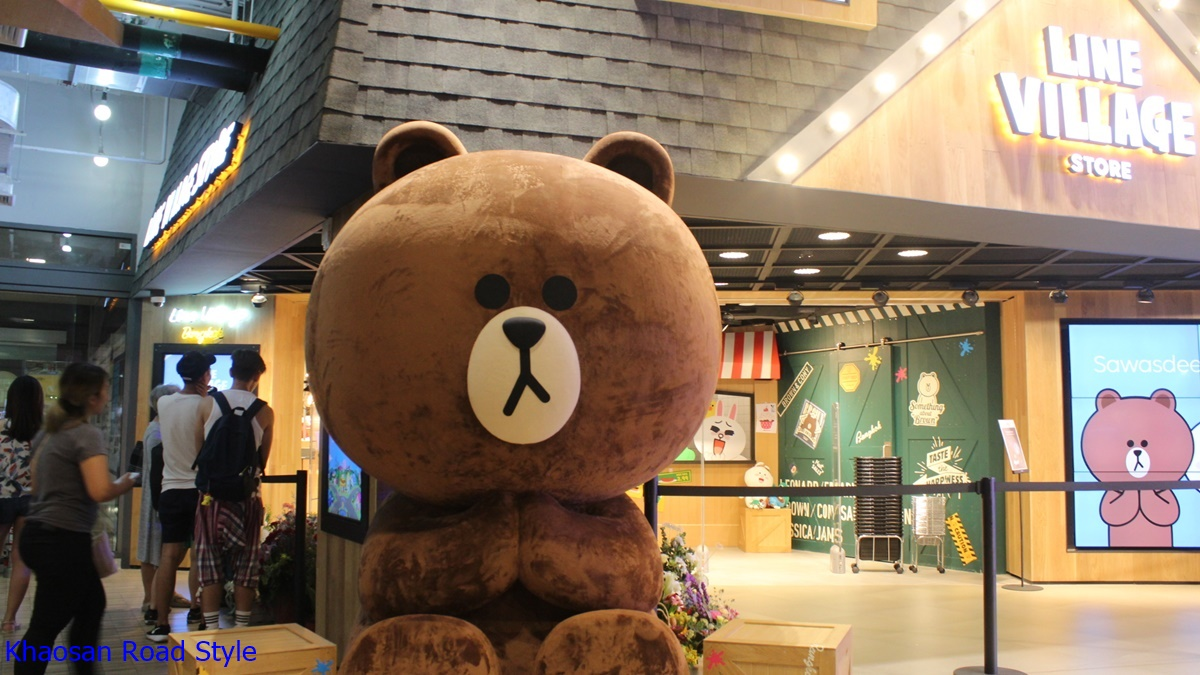line_brown: (301, 117, 741, 520), (1064, 373, 1200, 499)
